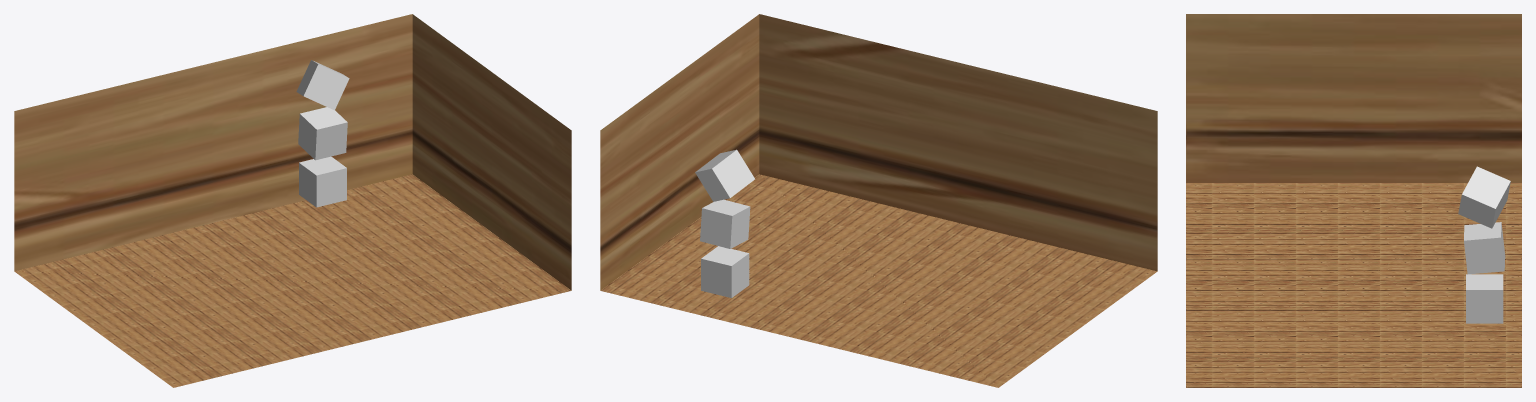
3 views of the same model, side by side, from view 1: azimuth 30°, elevation 25°; view 2: azimuth 150°, elevation 25°; view 3: azimuth 270°, elevation 25° (orthographic). The views are drawn at different scales.
Parts seen in each view (by area): view 1: Cube.003, Cube.002, Cube, Cube.001; view 2: Cube.003, Cube, Cube.002, Cube.001; view 3: Cube.003, Cube.001, Cube.002, Cube.
Part boxes in pixels (x1,y1,x2,y2): Cube.003: (14,14,571,387); Cube.002: (298,107,347,160); Cube: (299,156,346,207); Cube.001: (296,60,349,110); Cube.003: (600,14,1157,387); Cube: (701,246,749,297); Cube.002: (700,199,750,248); Cube.001: (695,149,754,201); Cube.003: (1186,14,1521,387); Cube.001: (1458,166,1510,228); Cube.002: (1464,222,1505,274); Cube: (1466,274,1503,323).
Size of what is drawn, in the model's own units: 26 by 10 by 18.
Materials: 3 (1 with a texture image).
